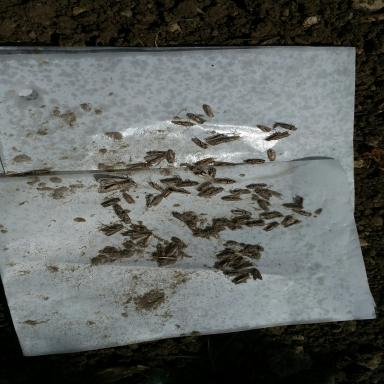pbw: (185, 163, 213, 181), (196, 101, 221, 120), (94, 221, 124, 236), (182, 110, 211, 124), (260, 147, 286, 162), (96, 246, 128, 257), (226, 215, 253, 228), (139, 156, 170, 167), (211, 217, 232, 233), (224, 206, 254, 217), (170, 118, 197, 130), (128, 222, 155, 234), (168, 210, 191, 224), (23, 167, 55, 177), (157, 175, 186, 186), (254, 123, 280, 135), (220, 131, 244, 144), (144, 179, 166, 193), (200, 132, 228, 143), (289, 192, 308, 208), (188, 137, 211, 150), (124, 162, 151, 173), (168, 235, 189, 249), (236, 249, 261, 260), (197, 185, 218, 198), (159, 185, 176, 201), (194, 156, 221, 166), (194, 171, 218, 182), (290, 207, 314, 218), (213, 259, 237, 270), (260, 210, 286, 220), (118, 228, 146, 237), (144, 148, 169, 158), (194, 226, 216, 237), (176, 177, 200, 187), (262, 132, 286, 142), (187, 214, 202, 230), (242, 244, 268, 253), (253, 188, 274, 199), (216, 250, 239, 260), (244, 218, 267, 228), (142, 152, 164, 162), (230, 274, 252, 284), (165, 149, 179, 164), (168, 188, 194, 196), (149, 194, 165, 207), (277, 121, 300, 130), (90, 254, 107, 266), (213, 177, 238, 185), (100, 198, 122, 207), (154, 242, 168, 256), (250, 268, 265, 281), (163, 244, 179, 256), (158, 254, 182, 262), (243, 158, 267, 166), (262, 222, 281, 232), (235, 263, 256, 272), (263, 188, 284, 197), (129, 233, 152, 241), (256, 199, 270, 212), (121, 192, 136, 204), (219, 195, 244, 202), (142, 234, 154, 248), (145, 193, 156, 208), (196, 182, 212, 192), (312, 207, 326, 218), (206, 188, 225, 196), (229, 189, 253, 195), (212, 161, 236, 167), (281, 215, 294, 226), (246, 184, 269, 190), (282, 204, 304, 210), (210, 229, 223, 239), (208, 168, 218, 180)
